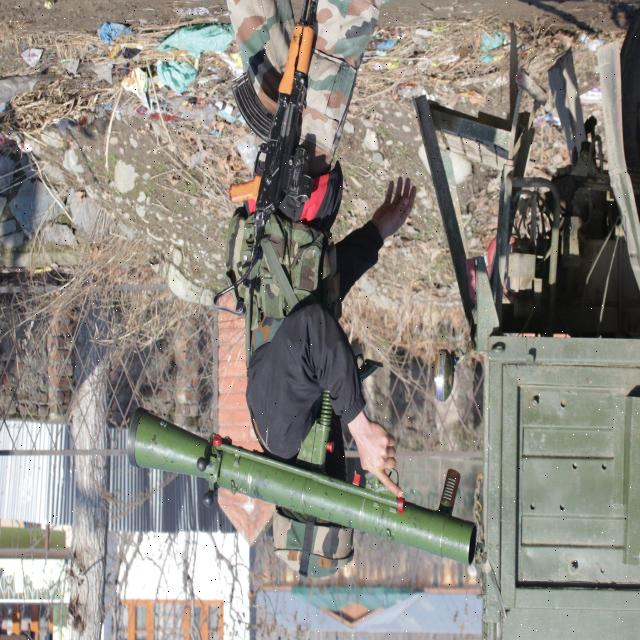bazooka: (123, 401, 483, 573)
